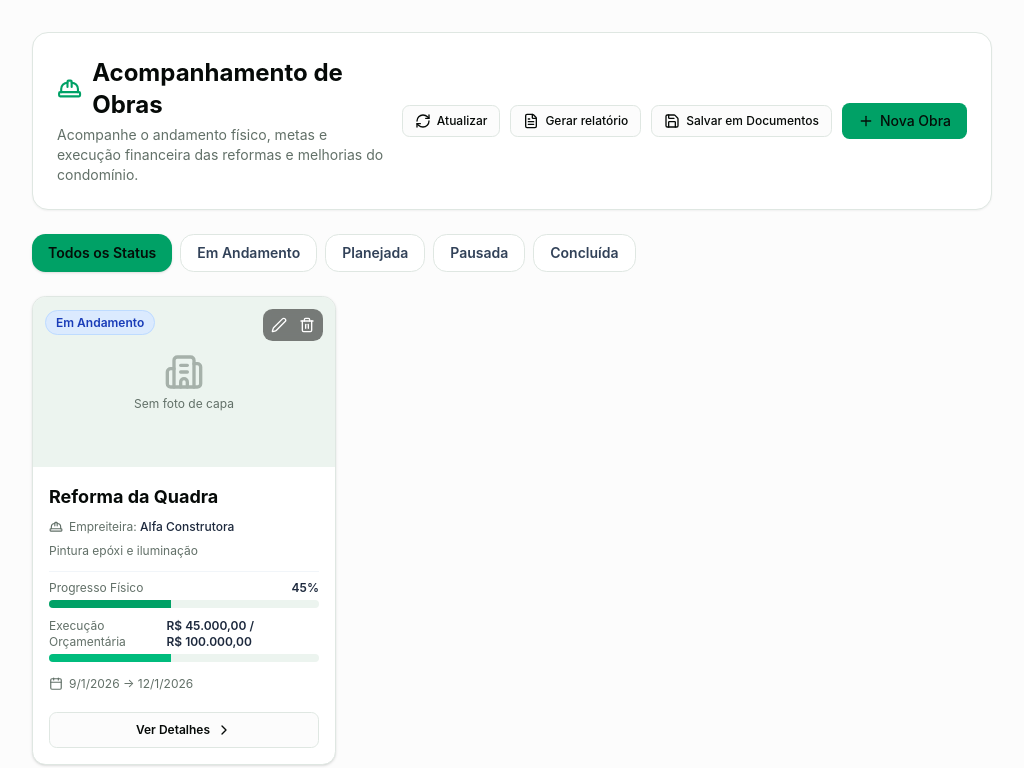
Scenario: ConstructionTrackerPage handlers › refetches with the chosen status filter and shows the empty state
This screenshot has width=1024, height=768.
Expected: the heading "Reforma da Quadra" is shown, [49,486,218,507]
Click the button "Concluída".
click(584, 253)  # box [533,234,636,272]
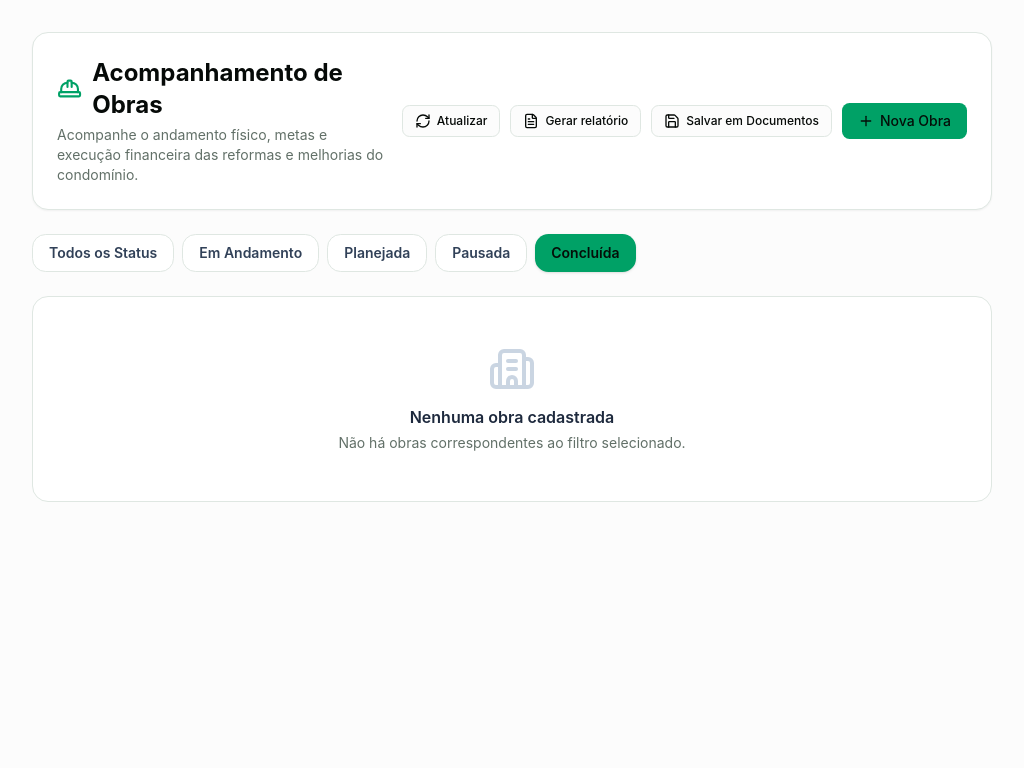
Now the heading "Nenhuma obra cadastrada" is shown, box [410,405,614,429]
